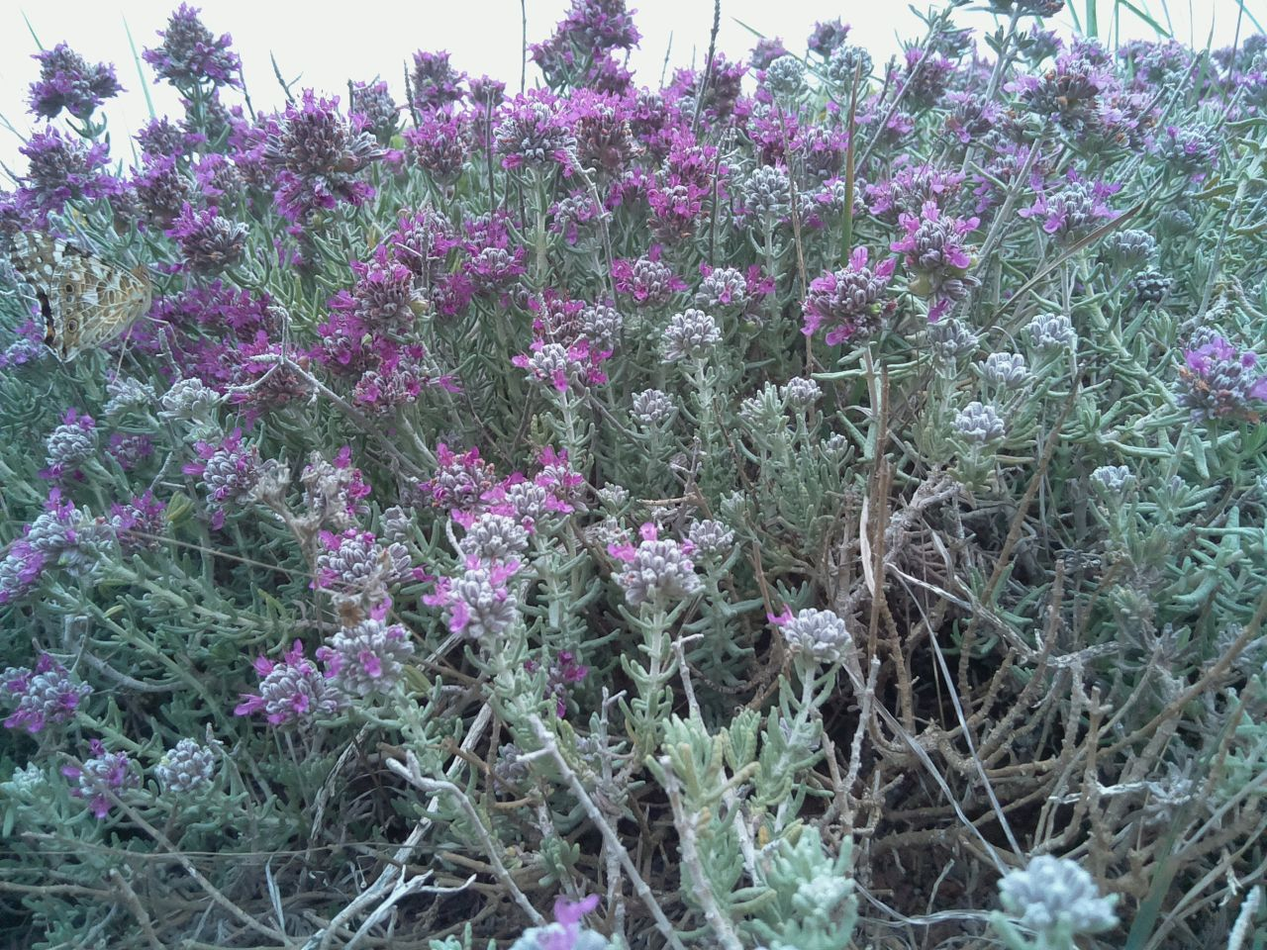Butterfly: (6, 222, 180, 356)
